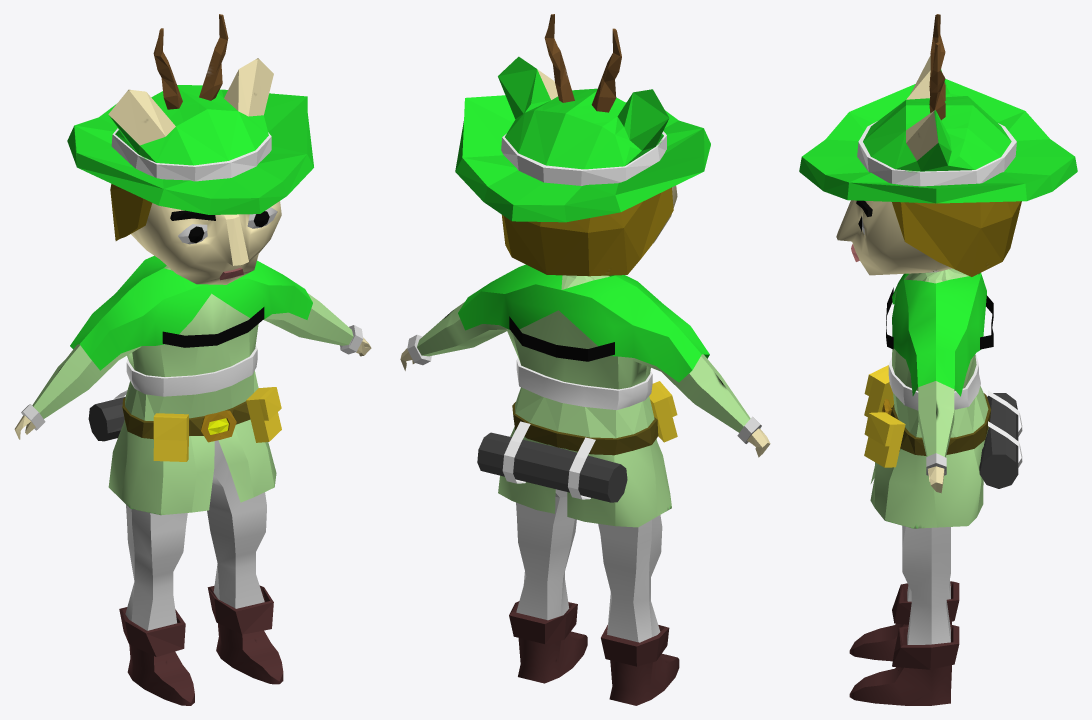
The picture shows the model from 3 angles, left to right: view 1: azimuth 30°, elevation 25°; view 2: azimuth 150°, elevation 25°; view 3: azimuth 270°, elevation 25°; orthographic projection. The views are drawn at different scales.
Visible parts, largest first — view 1: lowpoly; view 2: lowpoly; view 3: lowpoly.
Part boxes in pixels (bbox=[...]): lowpoly: bbox=[14, 14, 371, 705]; lowpoly: bbox=[400, 14, 770, 705]; lowpoly: bbox=[799, 14, 1077, 705].
Bounding box in the file's own units: 109 × 189 × 73.97.
